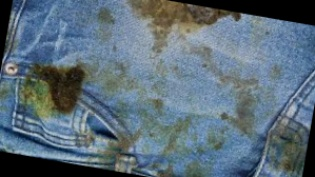earth: (139, 0, 233, 36), (35, 60, 88, 115), (229, 84, 261, 135), (268, 132, 305, 175), (111, 135, 133, 154)
